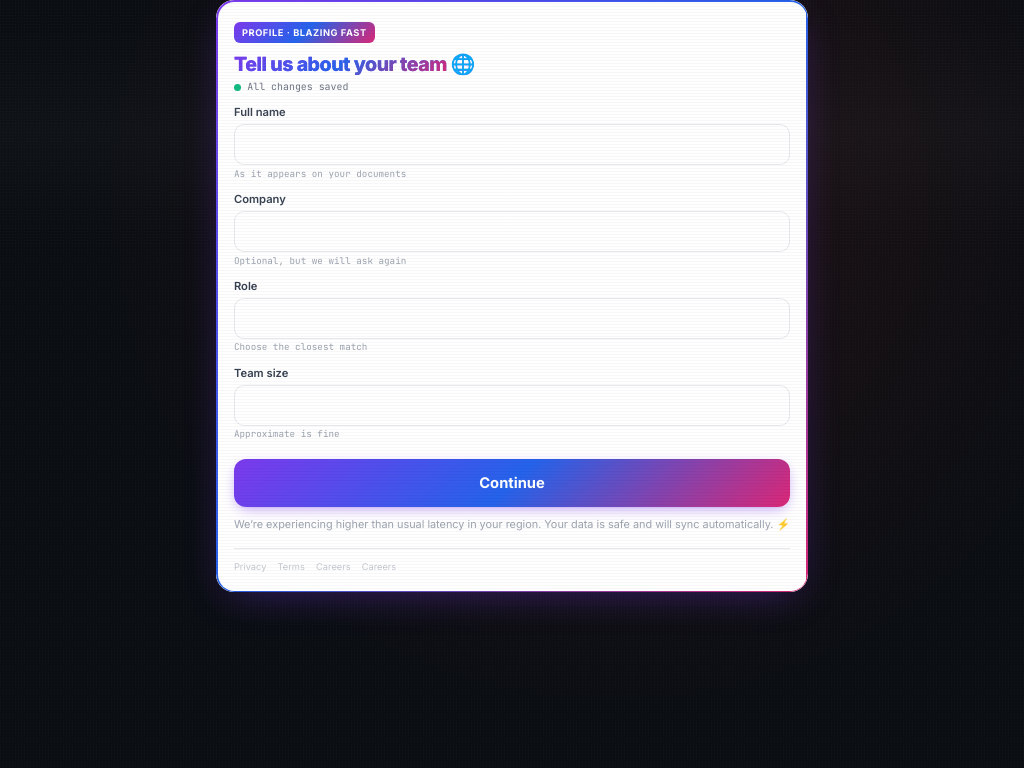
Test: L32 · Network Conditions › refuses an incomplete form, also late
Click the button "Continue" at (512, 483), box [234,459,790,507]
Wait 1000 ms
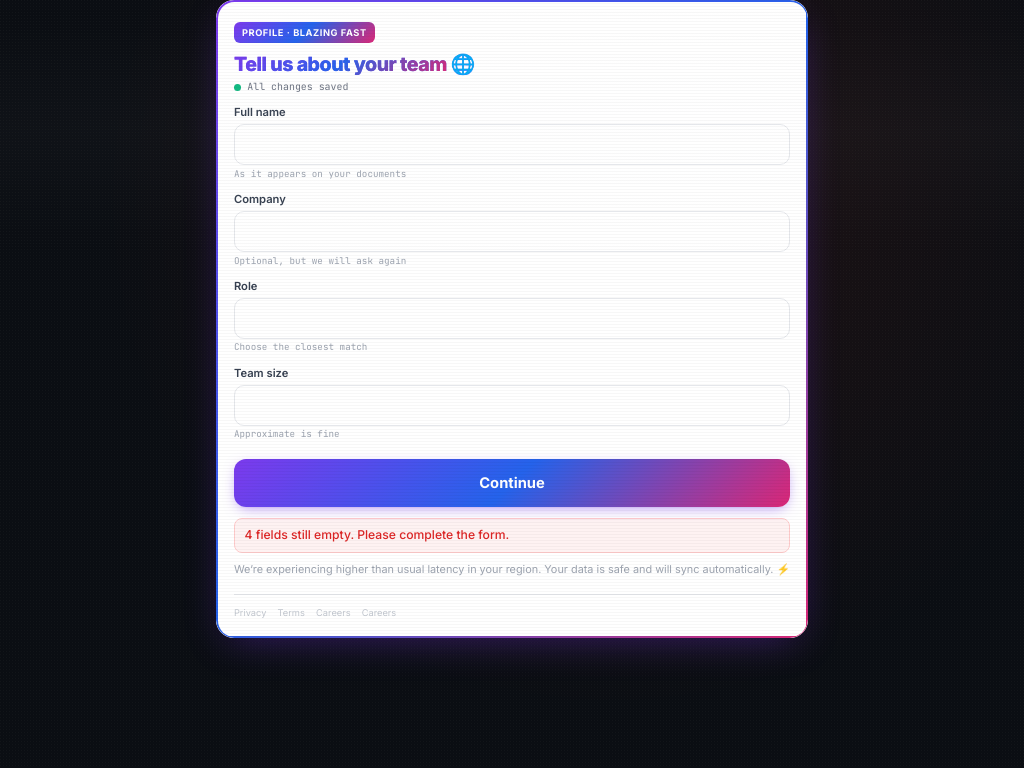
expect the text "4 fields still empty. Please complete the form." is shown: met, box [234,518,790,553]
